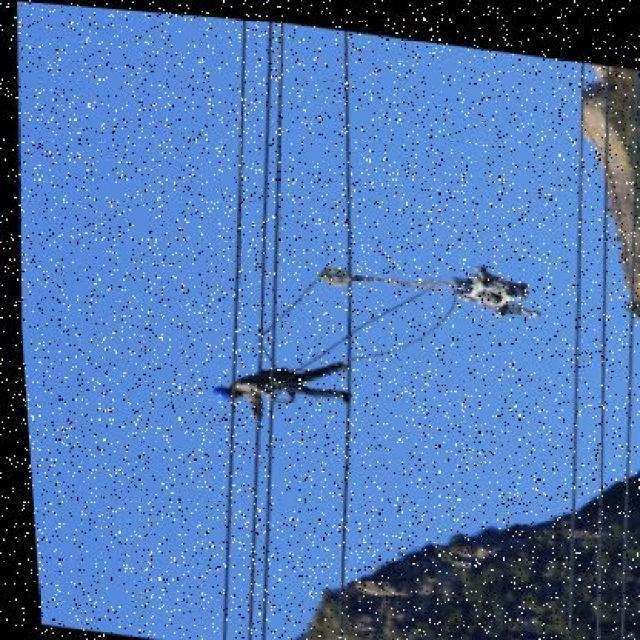helmet: (203, 379, 237, 401)
